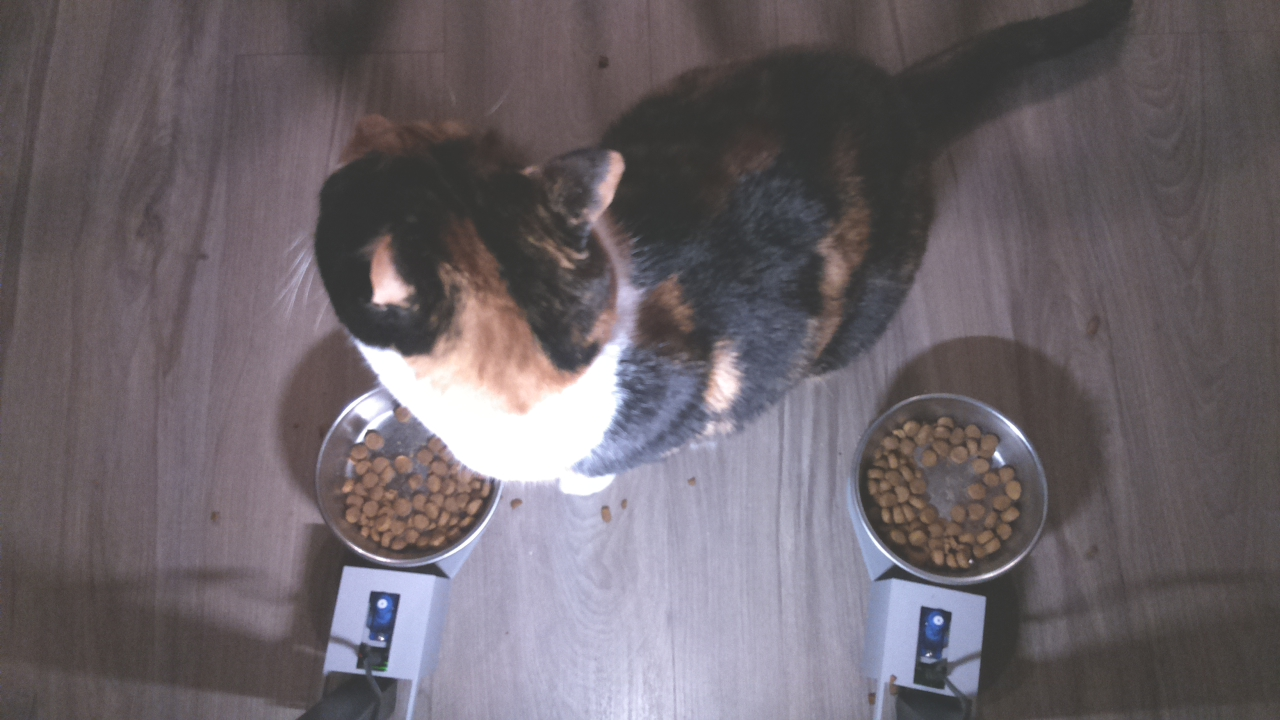bella: (287, 91, 635, 393)
open_bowl: (844, 389, 1048, 587), (311, 393, 494, 566)
